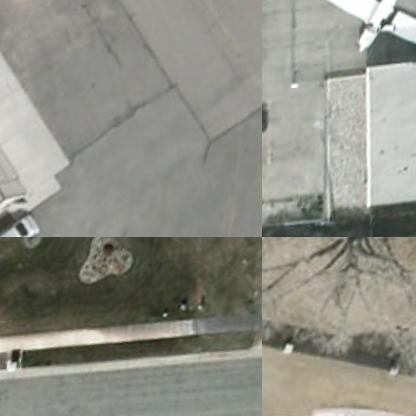car: (0, 203, 56, 236)
plane: (287, 0, 415, 94)
